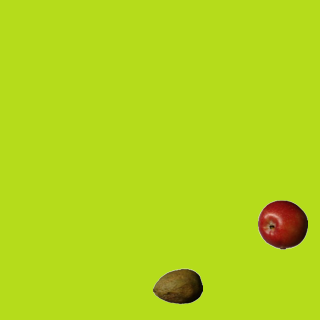Apple Braeburn: (257, 199, 307, 249)
Papaya: (152, 261, 202, 311)
